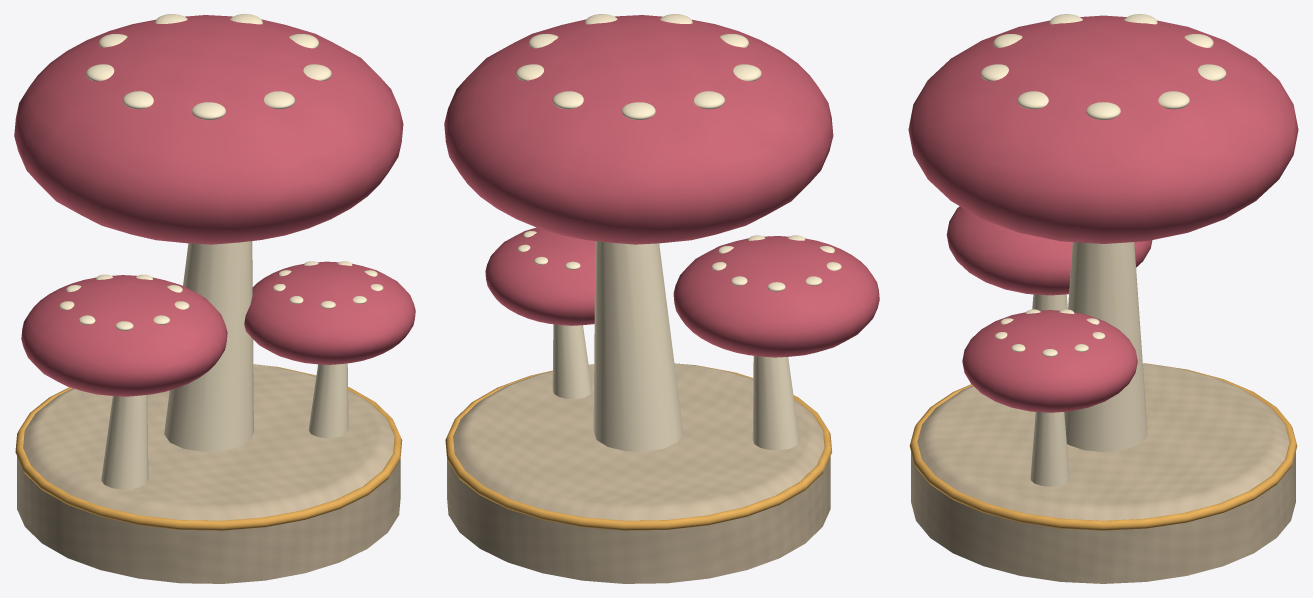
File: zauberwald.glb
3 renders of one model, left to right at view 1: azimuth 30°, elevation 25°; view 2: azimuth 150°, elevation 25°; view 3: azimuth 270°, elevation 25°, orthographic.
Visible parts, largest first — view 1: zauberwald_lod0; view 2: zauberwald_lod0; view 3: zauberwald_lod0.
Boxes of the visible parts, x1,y1,x2,y2 form: zauberwald_lod0: [14, 14, 415, 583]; zauberwald_lod0: [444, 14, 879, 583]; zauberwald_lod0: [908, 14, 1298, 583].
Size of what is drawn, in the model's own units: 7.98 by 9.35 by 7.3.
Materials: 4 (4 with a texture image).
